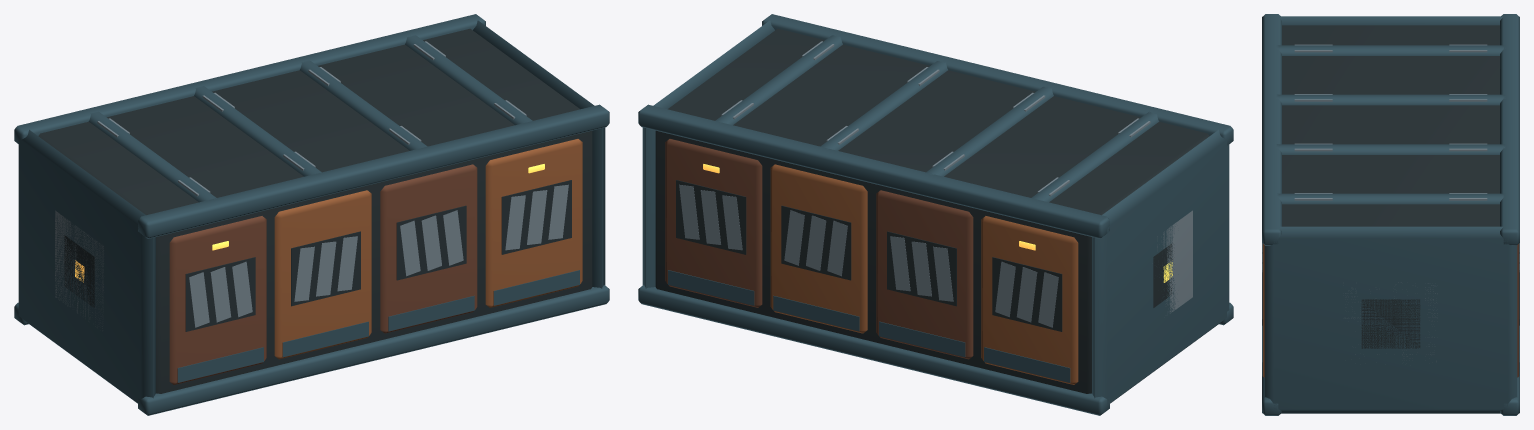
File: e12g-overflow-cargo-block.glb
3 views of the same model, side by side, from view 1: azimuth 30°, elevation 25°; view 2: azimuth 150°, elevation 25°; view 3: azimuth 270°, elevation 25° (orthographic). The views are drawn at different scales.
Parts seen in each view (by area): view 1: Ablated petrol iron, Inboard seal, Darker oxide freight panels, Oxide freight panels, Rubbed steel faces; view 2: Ablated petrol iron, Inboard seal, Oxide freight panels, Darker oxide freight panels, Rubbed steel faces; view 3: Ablated petrol iron, Inboard seal, Rubbed steel faces, Darker oxide freight panels, Oxide freight panels.
Boxes of the visible parts, left/top/right/bottom form: Ablated petrol iron: left=14, top=14, right=609, bottom=415; Inboard seal: left=38, top=28, right=592, bottom=393; Darker oxide freight panels: left=169, top=164, right=477, bottom=384; Oxide freight panels: left=274, top=139, right=582, bottom=359; Rubbed steel faces: left=55, top=41, right=568, bottom=330; Ablated petrol iron: left=638, top=14, right=1233, bottom=415; Inboard seal: left=655, top=28, right=1209, bottom=393; Oxide freight panels: left=770, top=164, right=1078, bottom=384; Darker oxide freight panels: left=665, top=139, right=973, bottom=359; Rubbed steel faces: left=679, top=41, right=1192, bottom=327; Ablated petrol iron: left=1262, top=14, right=1519, bottom=415; Inboard seal: left=1262, top=25, right=1519, bottom=348; Rubbed steel faces: left=1262, top=44, right=1519, bottom=361; Darker oxide freight panels: left=1517, top=244, right=1518, bottom=377; Oxide freight panels: left=1263, top=244, right=1264, bottom=377.
Size of the model in its own units: 8 by 3.2 by 4.
